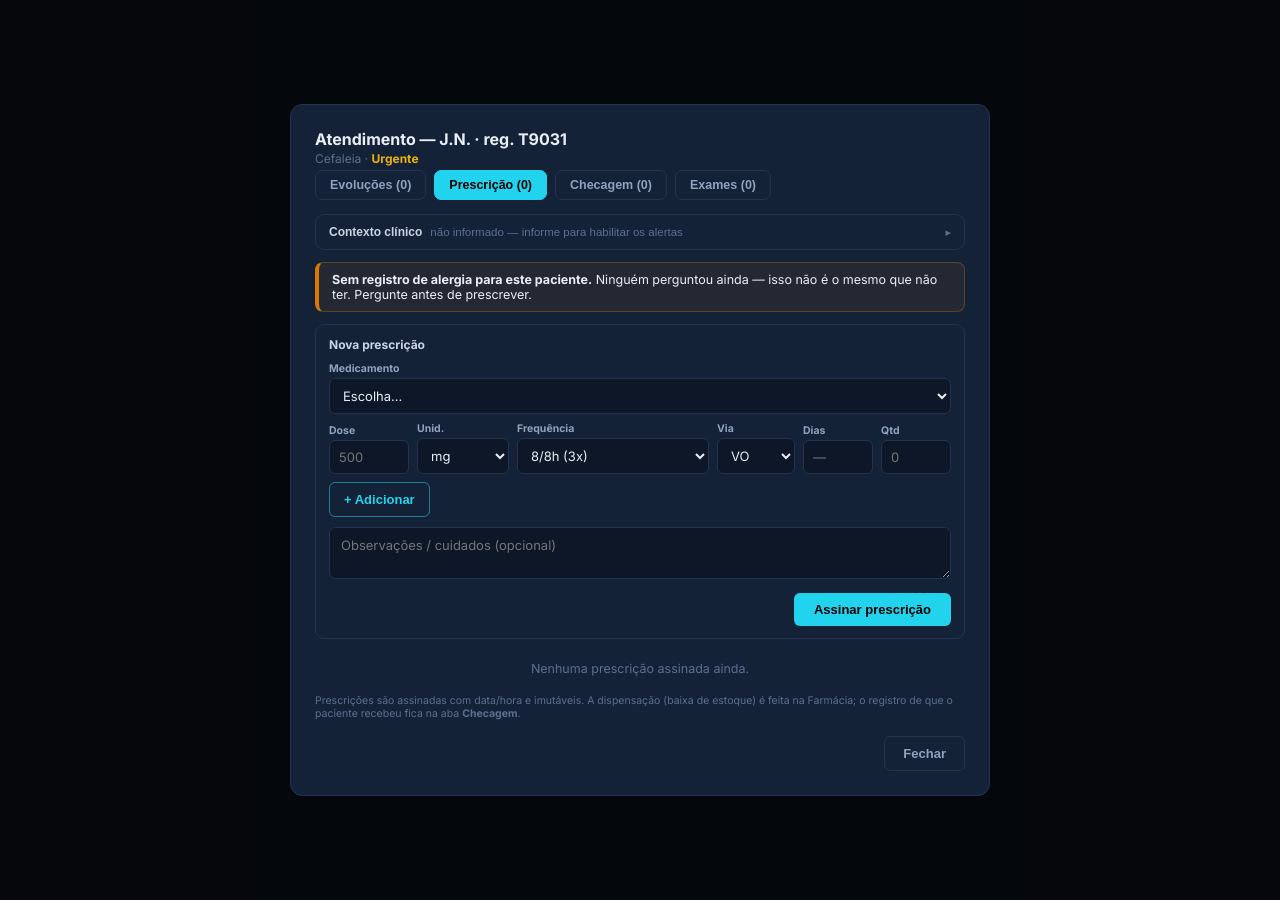
Test: 🔴 o rascunho da prescrição não morre ao trocar de aba › 🔴 item adicionado continua lá depois de ir à aba Exames e voltar
Select "Dipirona 500 mg comprimido" in the dropdown below "Medicamento" at (640, 396), box [329,378,951,414]
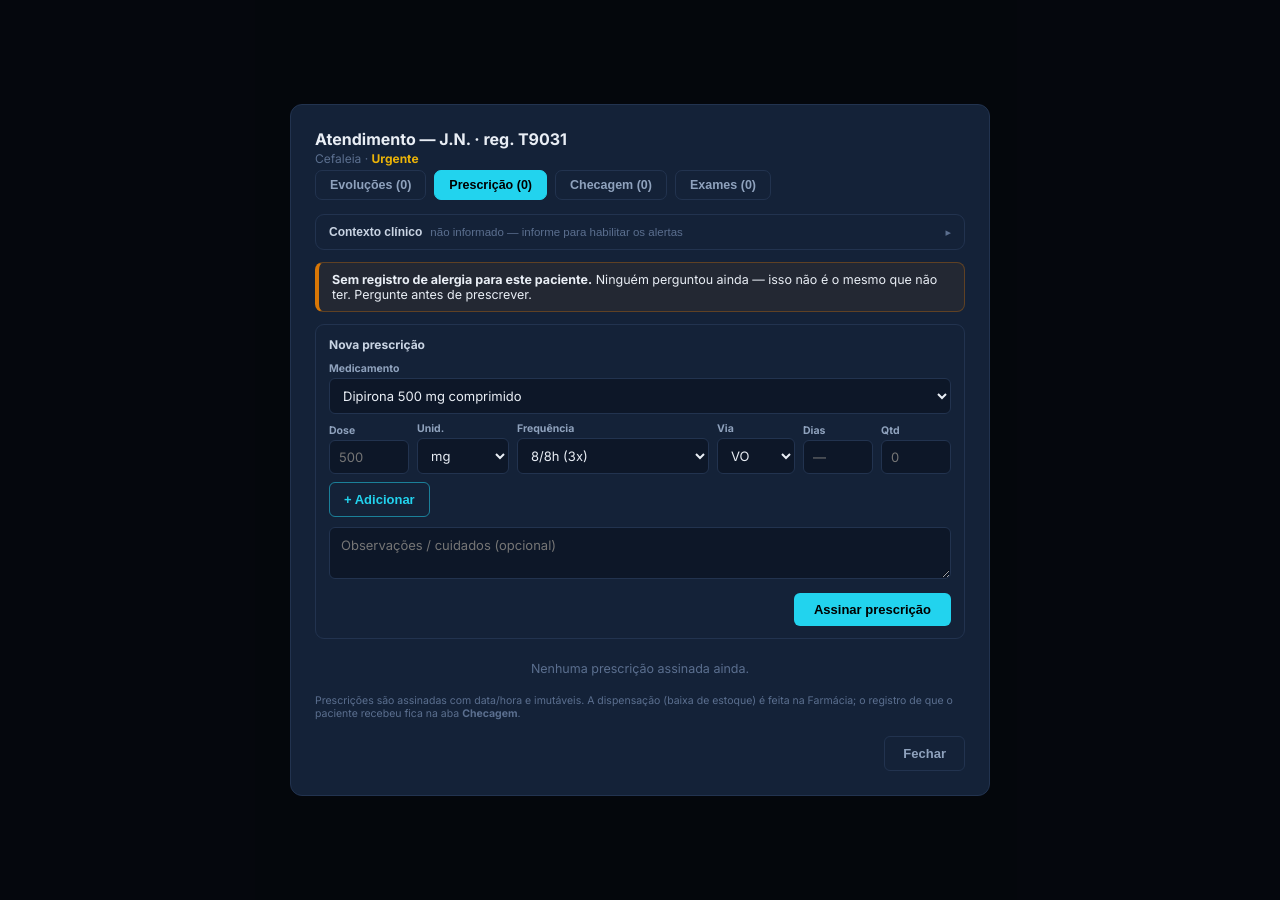
Click the button "+ Adicionar" at (379, 500), box [329,482,430,517]
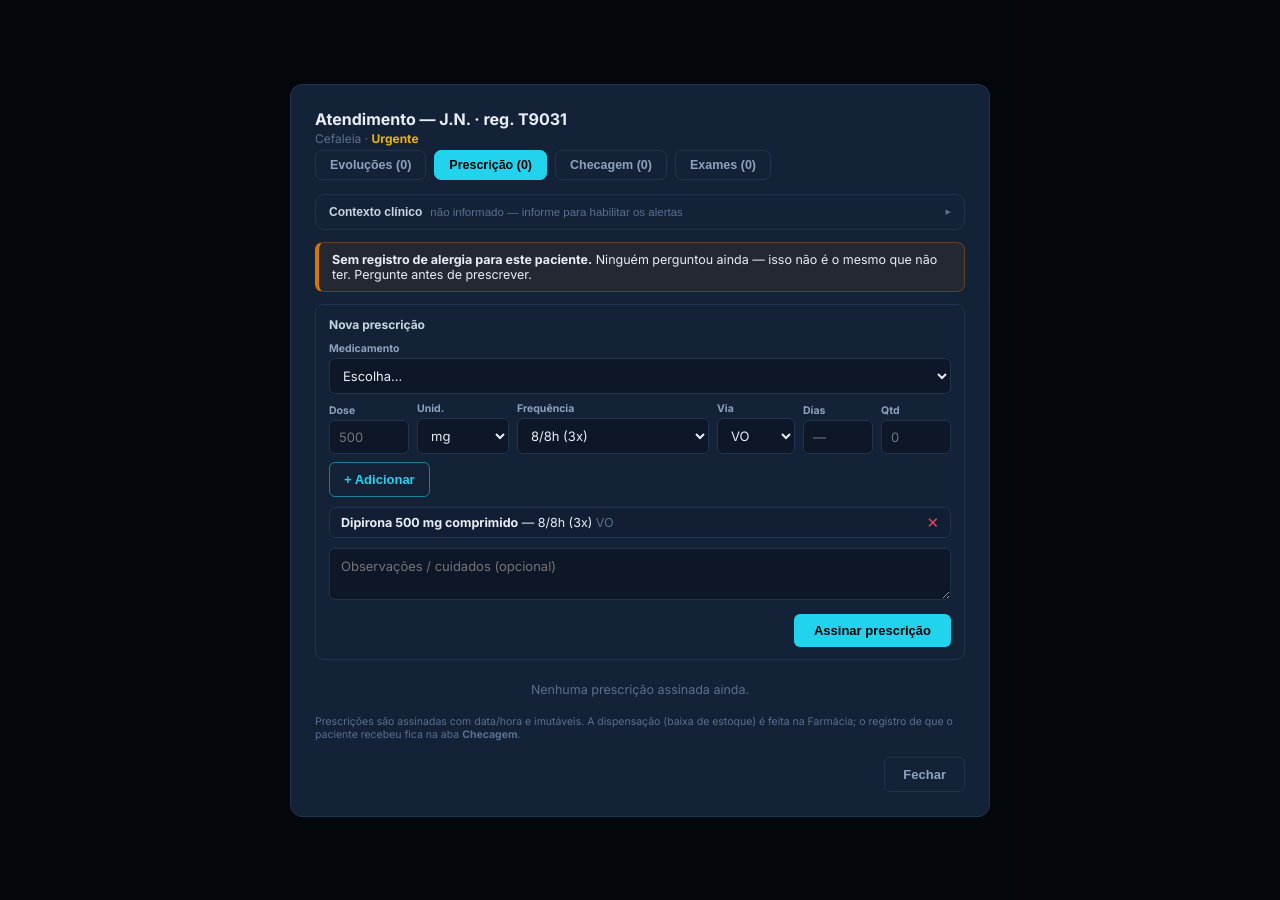
Click the button "Exames (0)" at (723, 164), box [675,150,771,180]
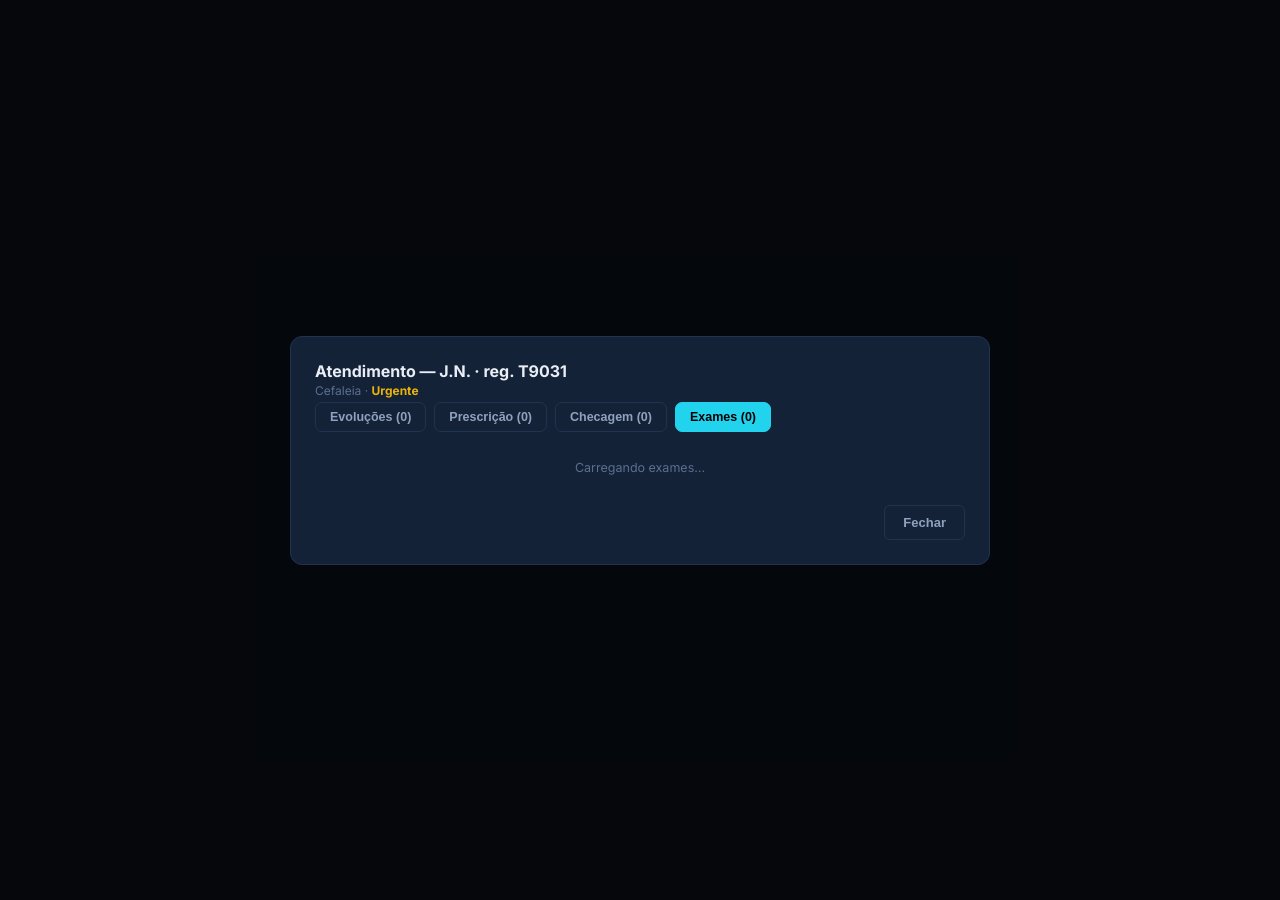
Expected: the text "Nova prescrição" is gone
Click the button "Prescrição (0)" at (491, 416), box [434,402,547,432]
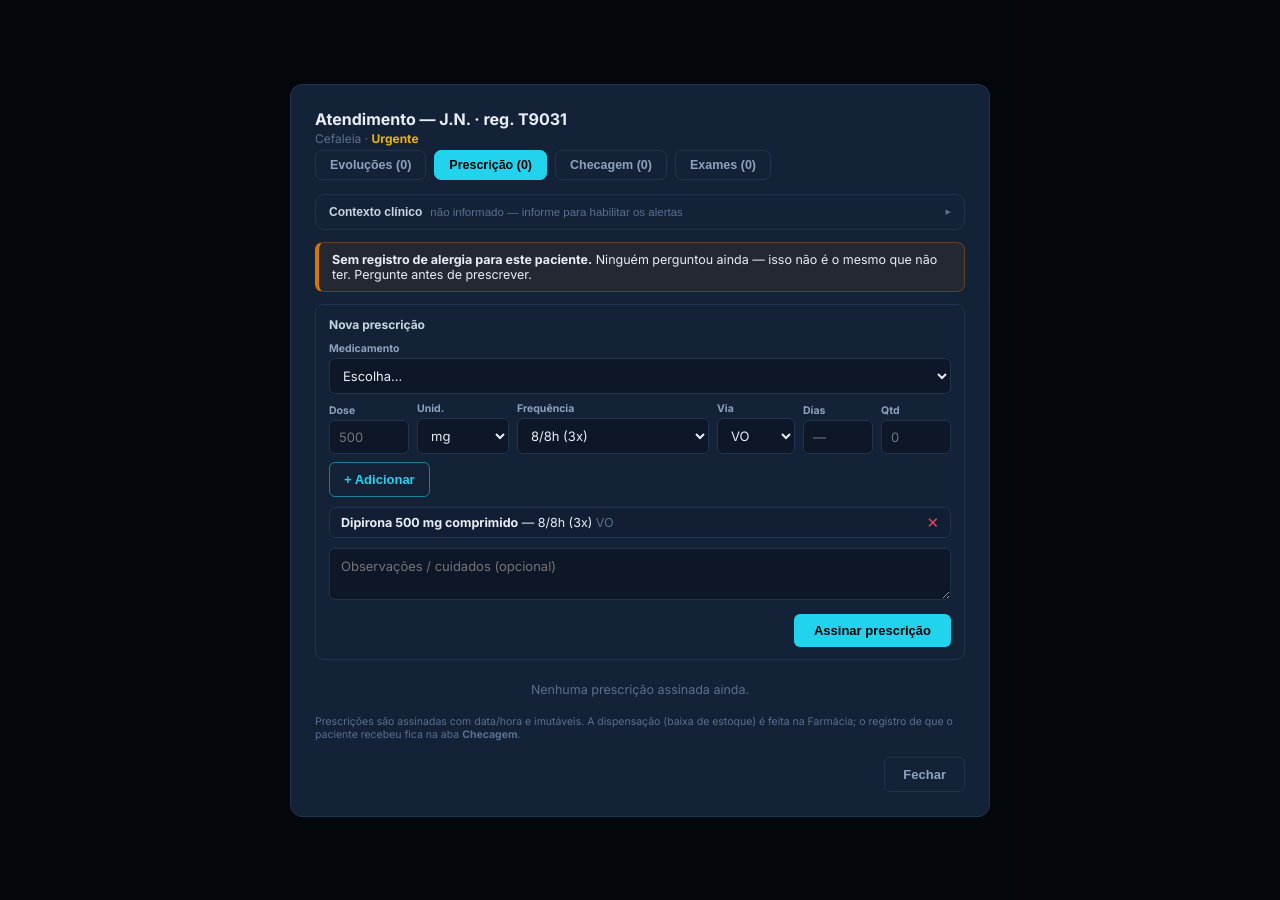
Expected: the text "Nova prescrição" is shown, [329,316,425,332]
